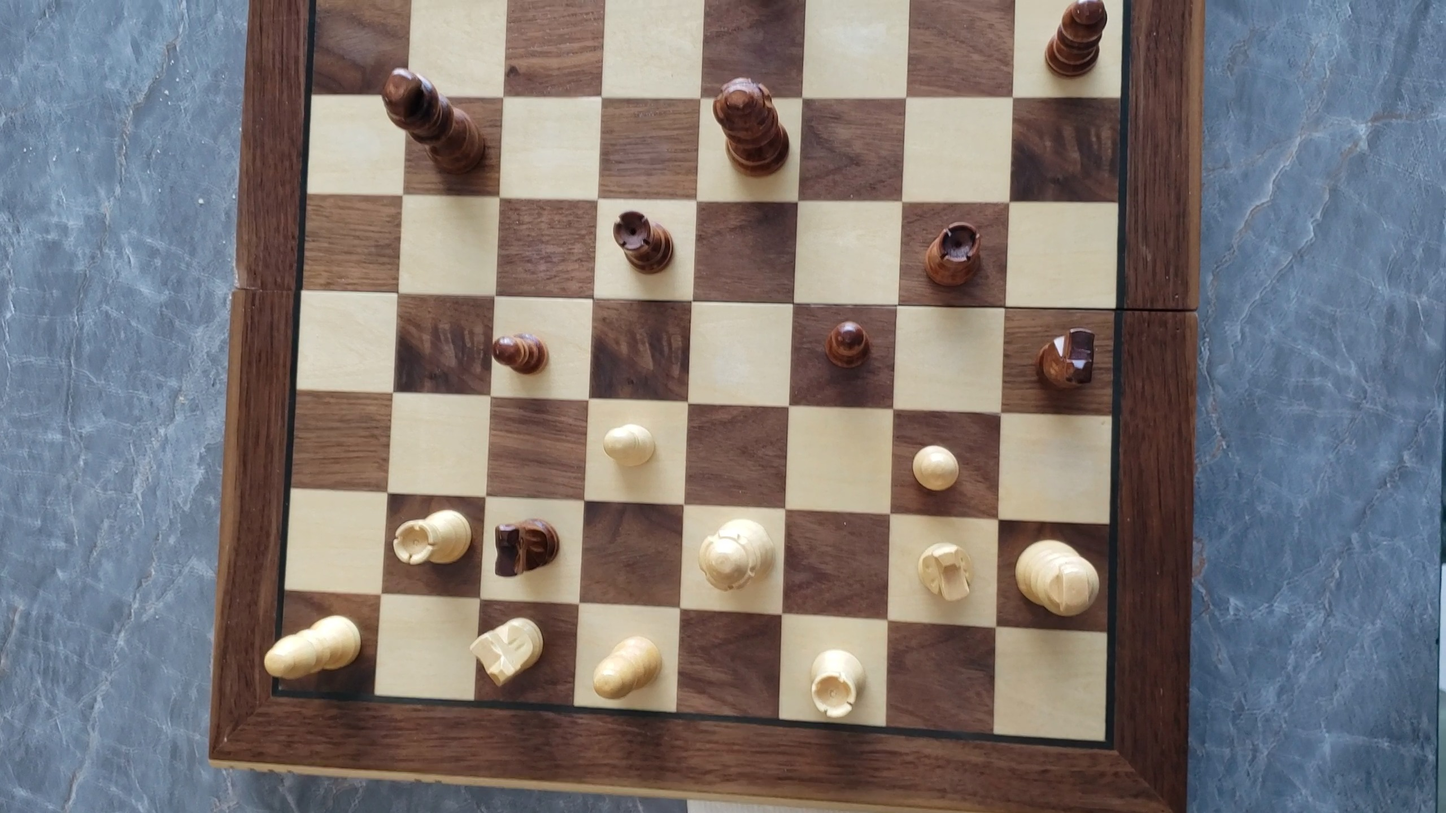black-bishop: (1039, 0, 1109, 88)
black-king: (379, 64, 486, 177)
black-knight: (1029, 321, 1106, 397), (492, 514, 562, 578)
black-pawn: (490, 328, 549, 375), (822, 316, 872, 370)
black-queen: (709, 78, 798, 182)
black-rook: (609, 207, 677, 276), (921, 218, 985, 289)
white-bishop: (257, 612, 373, 681), (586, 637, 671, 706)
white-king: (1012, 519, 1100, 630)
white-knight: (468, 613, 548, 692), (910, 531, 986, 611)
white-pawn: (597, 419, 660, 471), (907, 440, 964, 496)
white-queen: (689, 508, 791, 600)
white-rook: (795, 634, 881, 731), (388, 493, 474, 575)
